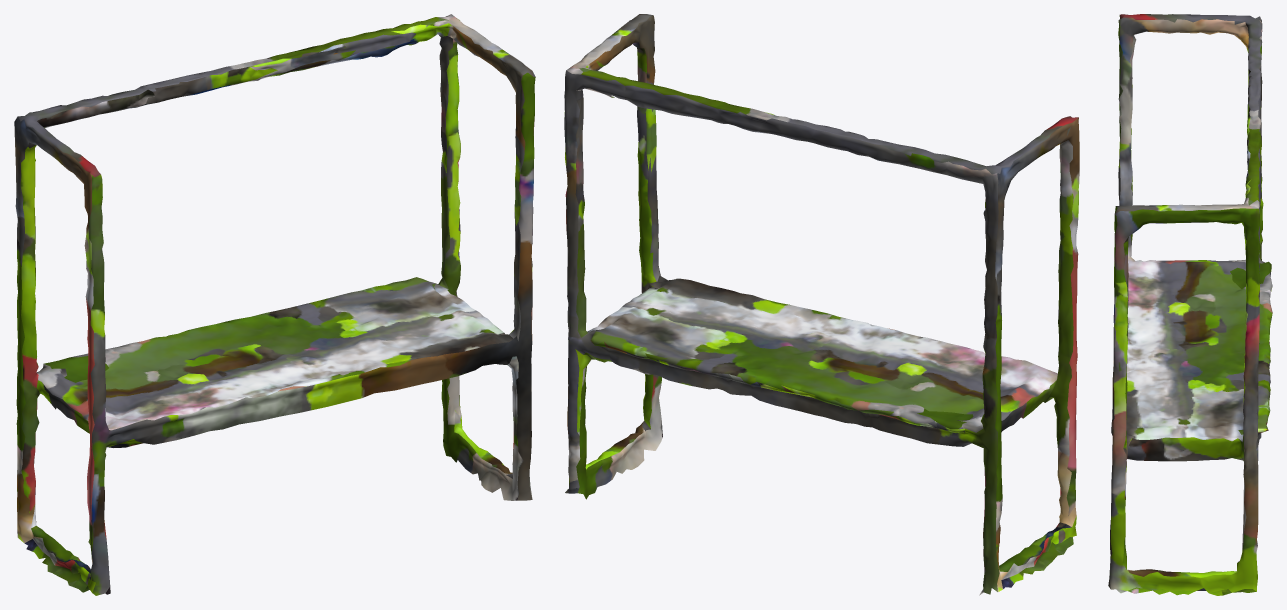
File: reck.obj
3 renders of one model, left to right at view 1: azimuth 30°, elevation 25°; view 2: azimuth 150°, elevation 25°; view 3: azimuth 270°, elevation 25°, orthographic. The views are drawn at different scales.
Visible parts, largest first — view 1: reck; view 2: reck; view 3: reck.
Boxes of the visible parts, x1=… form: reck: x1=14, y1=14, x2=535, y2=595; reck: x1=564, y1=14, x2=1079, y2=595; reck: x1=1108, y1=14, x2=1272, y2=595.
Bounding box in the file's own units: 0.5624 × 0.5273 × 0.1995.
